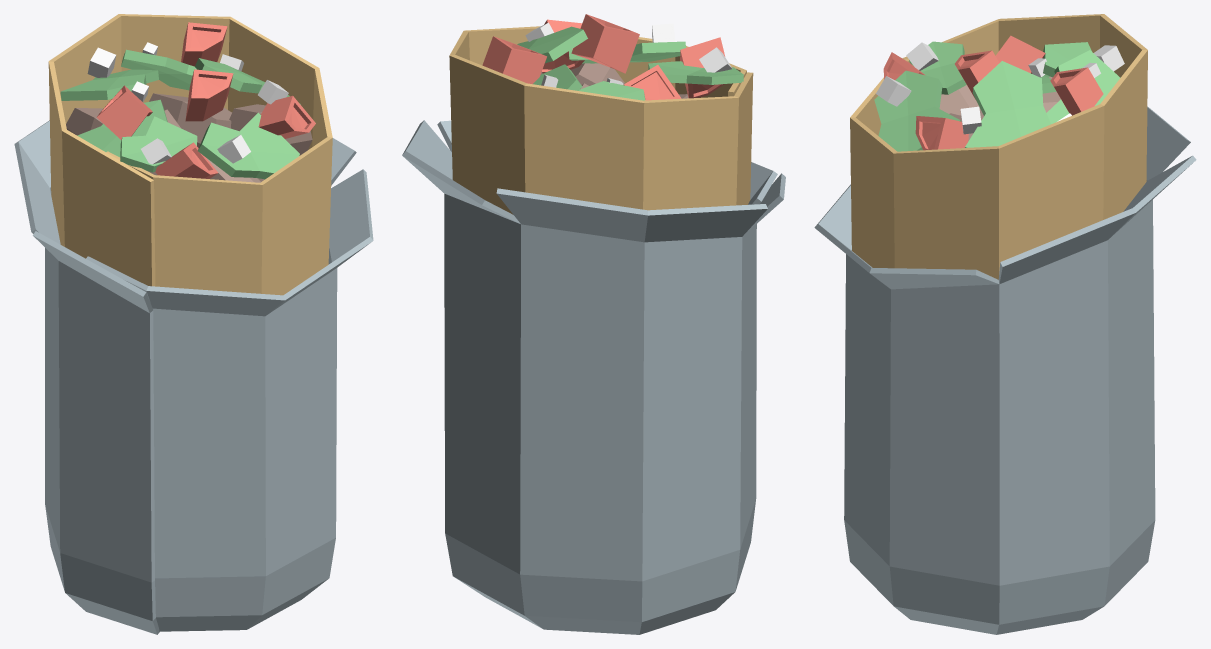
File: Burrito_01.gltf
The picture shows the model from 3 angles, left to right: view 1: azimuth 30°, elevation 25°; view 2: azimuth 150°, elevation 25°; view 3: azimuth 270°, elevation 25°; orthographic projection. The views are drawn at different scales.
Parts seen in each view (by area): view 1: node-0; view 2: node-0; view 3: node-0.
Part boxes in pixels (<box>): node-0: <box>14,14,373,634</box>; node-0: <box>402,14,785,634</box>; node-0: <box>814,14,1196,634</box>.
Bounding box in the file's own units: 6.41 × 9.81 × 6.18.
